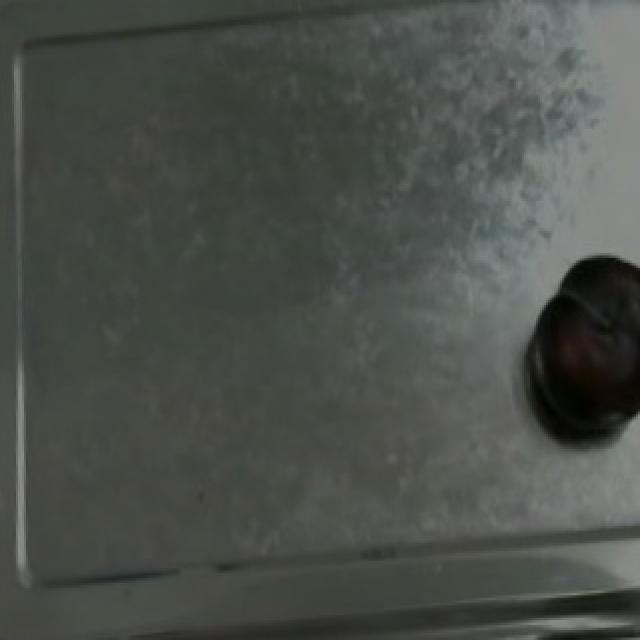Fruit: (524, 243, 640, 442)
